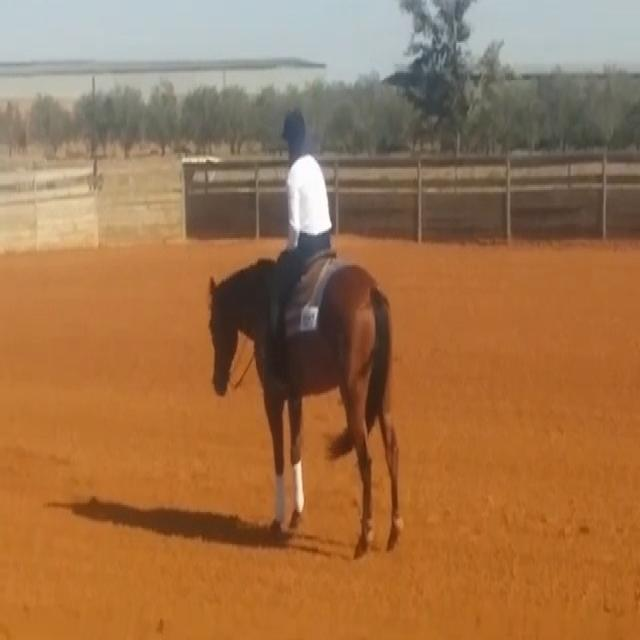horse: (204, 251, 405, 558)
